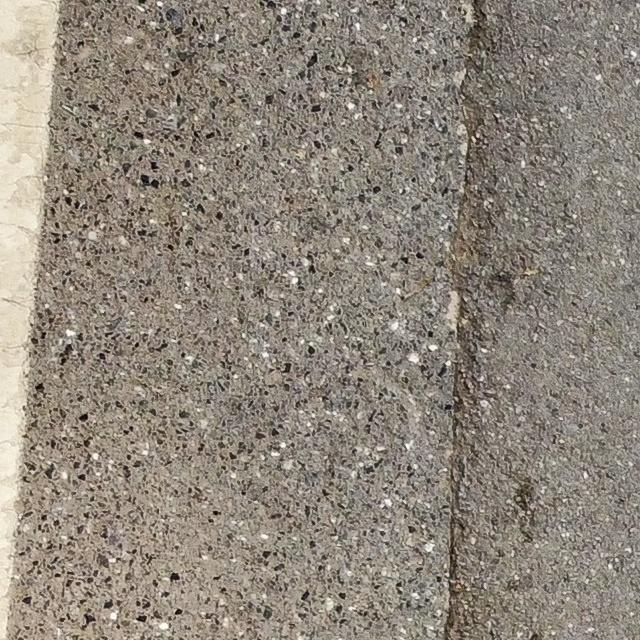LongitudinalCrack: (443, 1, 487, 639)
